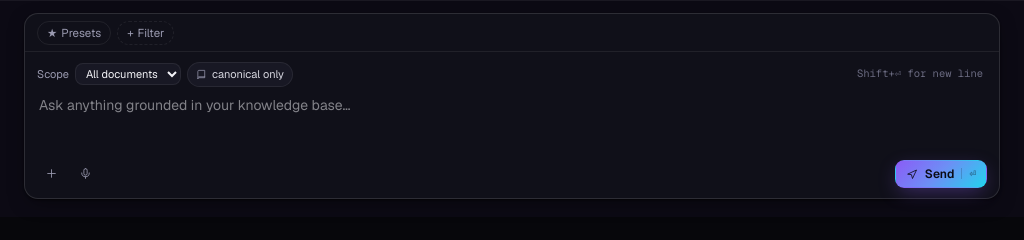
Test: Composer › rejects an empty draft with a client-side validation error
This screenshot has width=1024, height=240.
Click the button with test id "chat-composer-send": (941, 174) [895,160,987,188]
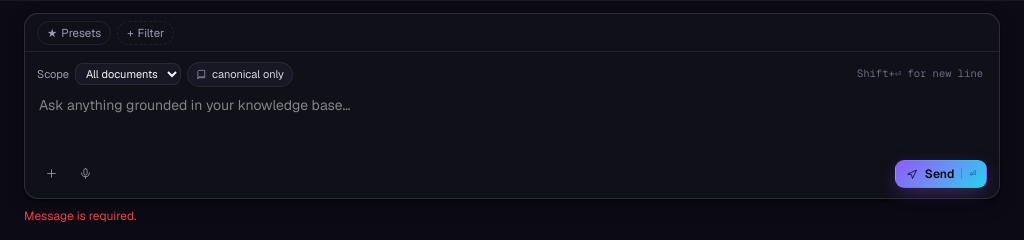
Expected: the message with test id "message-error" shows "required", [24,208,136,224]
